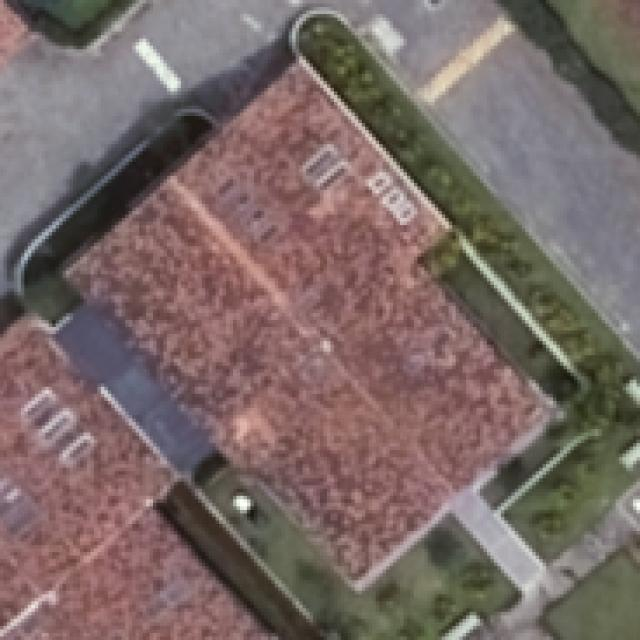Batiment: (66, 63, 551, 578), (0, 316, 274, 639), (0, 0, 30, 70)
